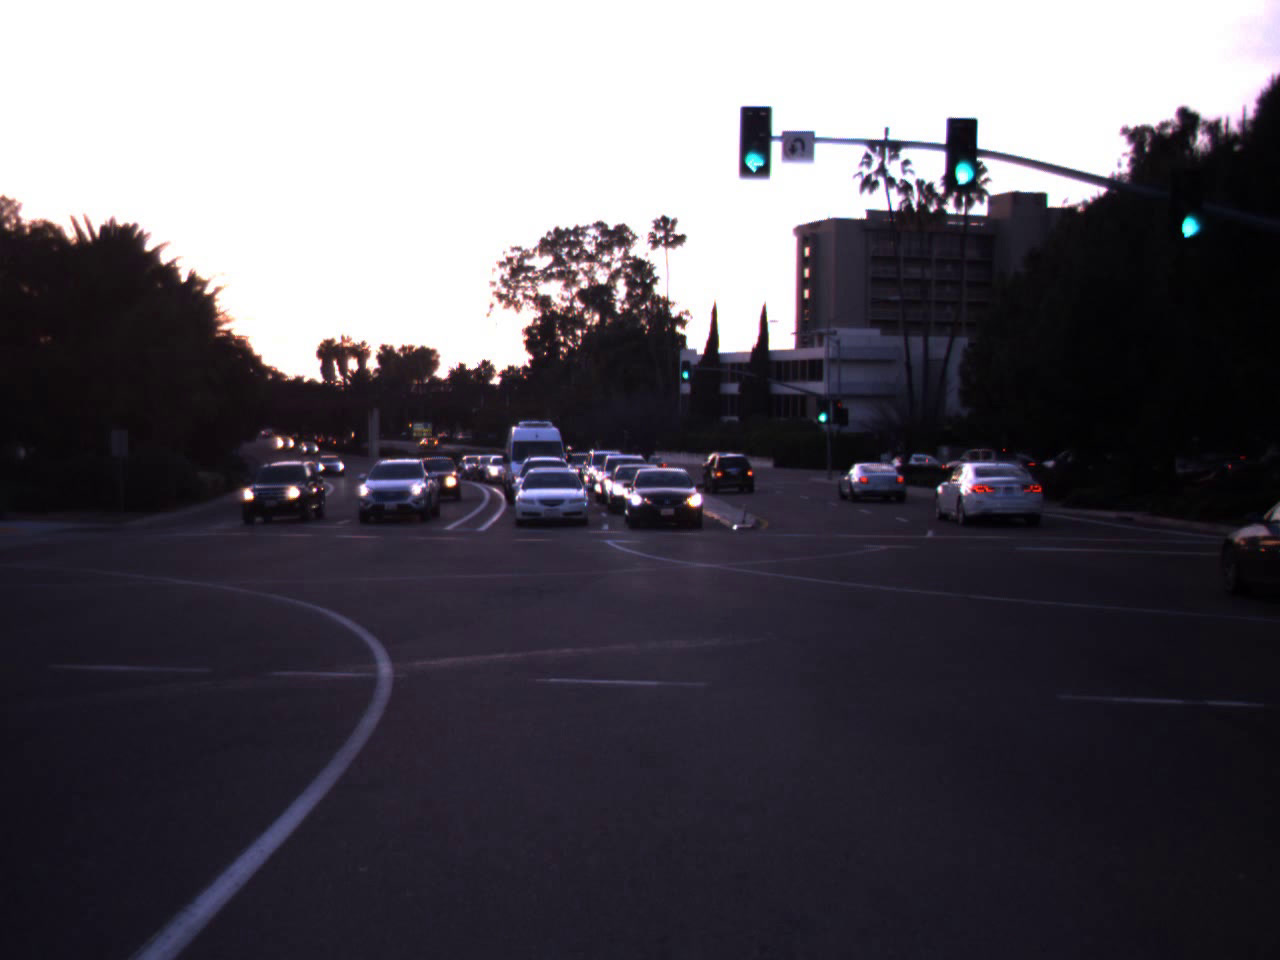go: (720, 80, 786, 185), (939, 94, 990, 194), (1169, 155, 1211, 245), (816, 389, 831, 424), (680, 351, 692, 381)
